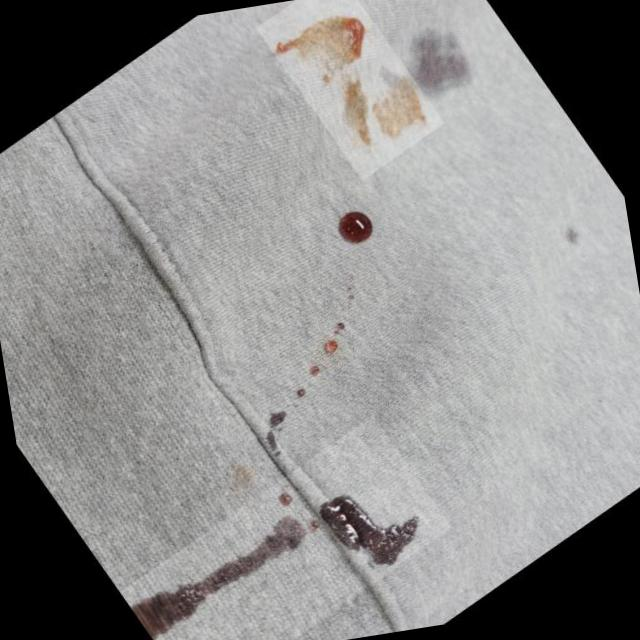Stain: (112, 486, 332, 640), (266, 0, 430, 163), (316, 485, 430, 581), (408, 25, 473, 108), (259, 408, 296, 462), (332, 206, 377, 247), (224, 460, 260, 495), (556, 220, 587, 250), (339, 269, 362, 308), (331, 316, 351, 336), (320, 338, 339, 358), (304, 364, 322, 382), (294, 386, 308, 400)
seam: (47, 65, 411, 640)
